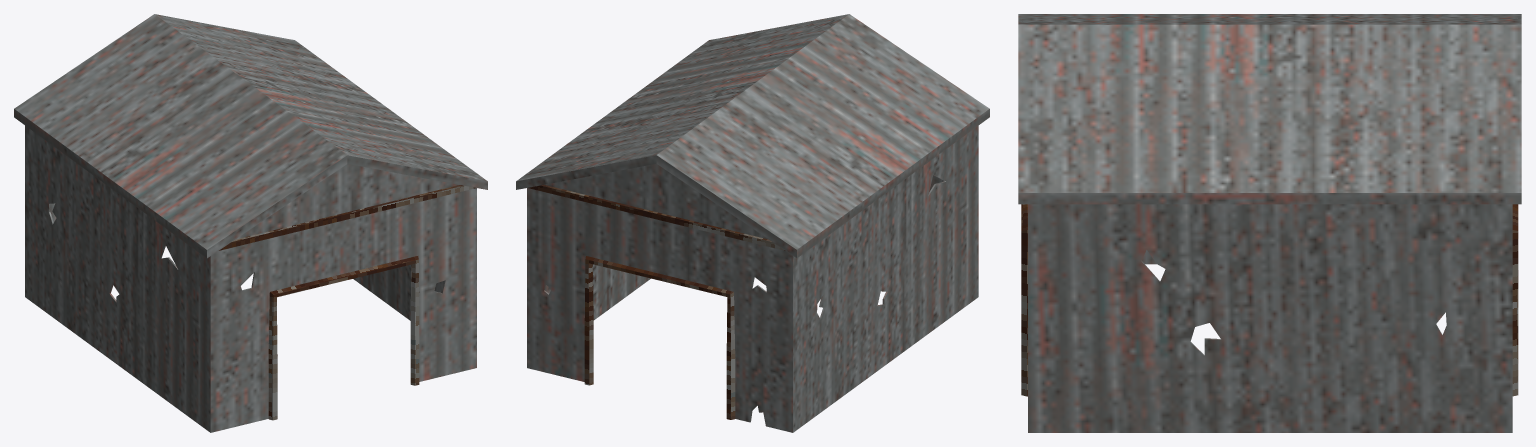
The model's file is shed.fbx.
3 renders of one model, left to right at view 1: azimuth 30°, elevation 25°; view 2: azimuth 150°, elevation 25°; view 3: azimuth 270°, elevation 25°, orthographic. The views are drawn at different scales.
Visible parts, largest first — view 1: roof, shed, entryway.001, line; view 2: roof, shed, entryway, line; view 3: shed, roof, entryway.001, entryway.
Part boxes in pixels (bbox=[...]): roof: bbox=[14, 14, 487, 258]; shed: bbox=[25, 125, 476, 432]; entryway.001: bbox=[268, 256, 419, 420]; line: bbox=[219, 185, 475, 250]; roof: bbox=[516, 14, 989, 257]; shed: bbox=[527, 126, 978, 432]; entryway: bbox=[584, 256, 735, 419]; line: bbox=[528, 184, 785, 250]; shed: bbox=[1028, 204, 1512, 432]; roof: bbox=[1018, 14, 1521, 204]; entryway.001: bbox=[1021, 204, 1027, 396]; entryway: bbox=[1512, 204, 1518, 396].
Bounding box in the file's own units: 1900 × 1604 × 2260.
2 materials, 2 textured.
